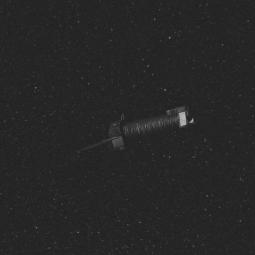xmm_newton: (98, 103, 195, 160)
